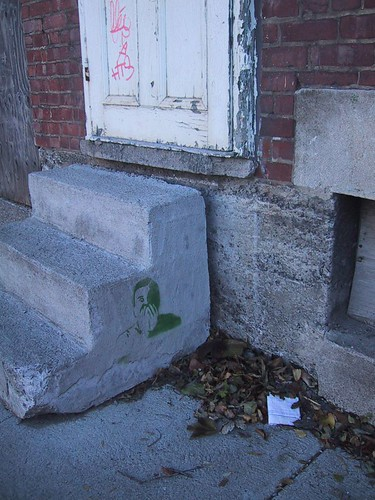door: (84, 1, 252, 168)
graffiti: (118, 281, 193, 363)
